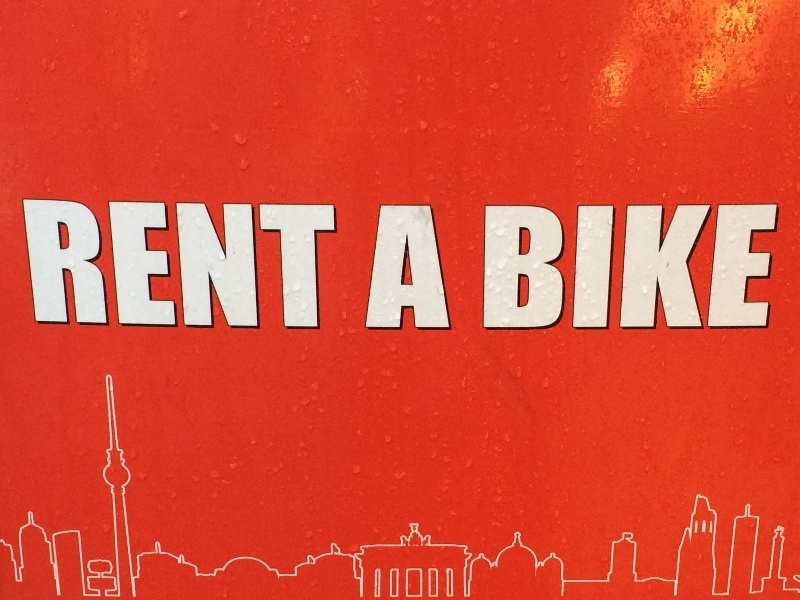text: (33, 196, 48, 332), (49, 196, 64, 332), (65, 196, 80, 332), (81, 196, 96, 332), (97, 196, 112, 332), (113, 196, 128, 332), (129, 196, 144, 332), (145, 196, 160, 332), (161, 196, 176, 332), (177, 196, 192, 332), (193, 196, 208, 332), (209, 196, 224, 332), (225, 196, 240, 332), (241, 196, 256, 332), (257, 196, 272, 332), (273, 196, 288, 332), (289, 196, 304, 332), (305, 196, 320, 332), (321, 196, 336, 332), (497, 201, 512, 333), (513, 201, 528, 333), (529, 201, 544, 333), (545, 201, 560, 333), (561, 201, 576, 333), (577, 201, 592, 333), (593, 201, 608, 333), (609, 201, 624, 333), (625, 201, 640, 333), (641, 201, 656, 333), (657, 201, 672, 333), (673, 201, 688, 333), (689, 201, 704, 333), (705, 201, 720, 333), (721, 201, 736, 333), (737, 201, 752, 333), (753, 201, 768, 333), (385, 202, 400, 333), (401, 202, 416, 333), (417, 202, 432, 333), (433, 202, 448, 333), (20, 196, 32, 332), (485, 201, 496, 333), (769, 201, 780, 333), (378, 202, 384, 333), (449, 202, 452, 333), (337, 196, 339, 332)
